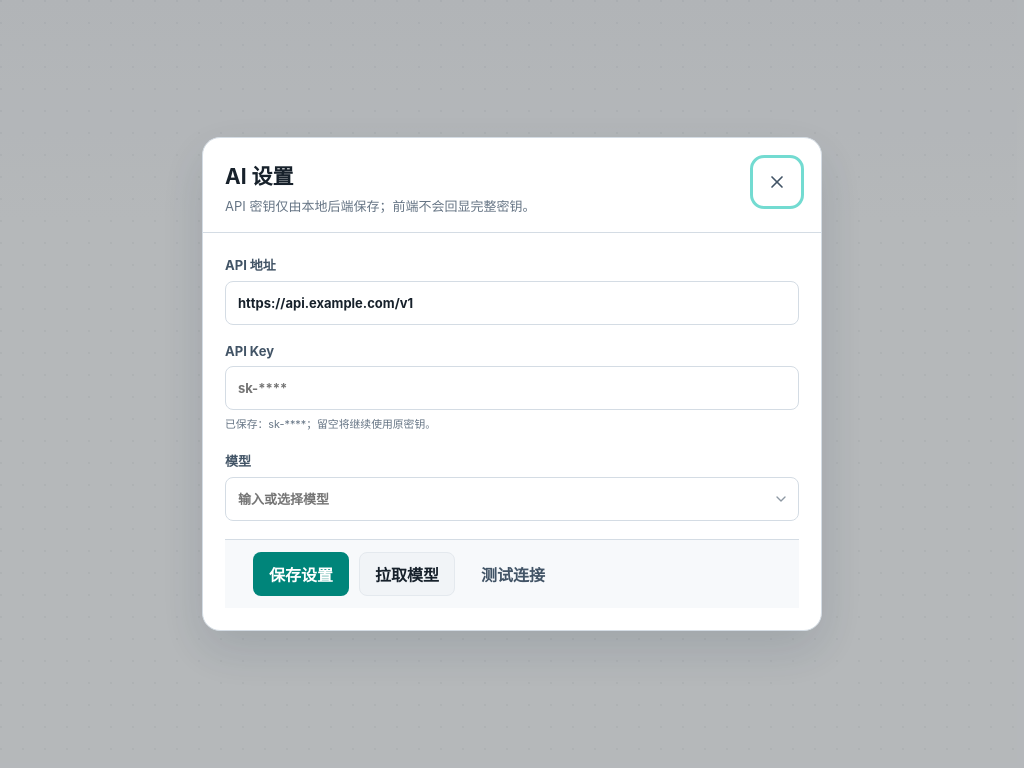
Test: AiSettingsDialog failure messages › falls back to pure Chinese for unknown test codes
The width and height of the screenshot is (1024, 768).
Click the button "测试连接": (513, 574) [465, 552, 561, 596]
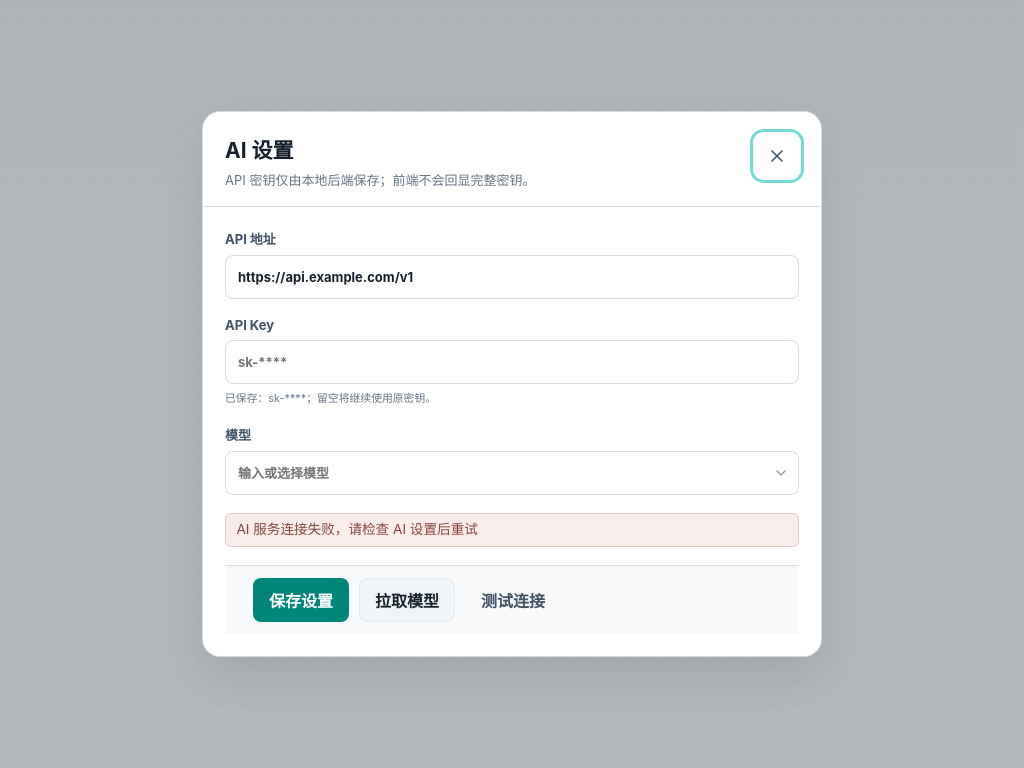
Result: the message with class "ai-local-notice" reads "AI 服务连接失败，请检查 AI 设置后重试" at [236, 521, 478, 537]
